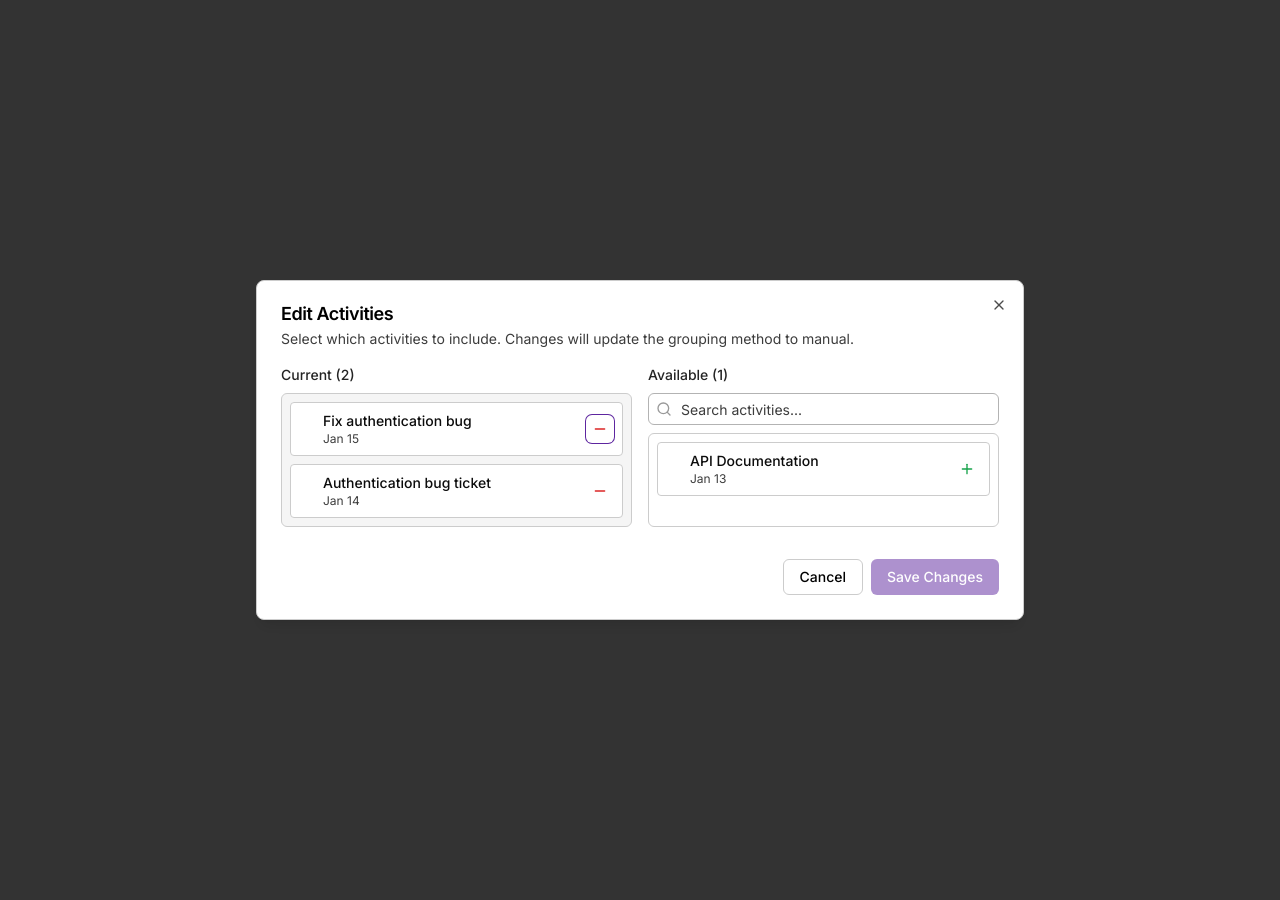
Test: EditActivitiesModal › removes activity from current when remove button clicked
Click the button titled "Remove from current" next to "Fix authentication bug" at (600, 429), box x1=586 y1=415 x2=614 y2=443
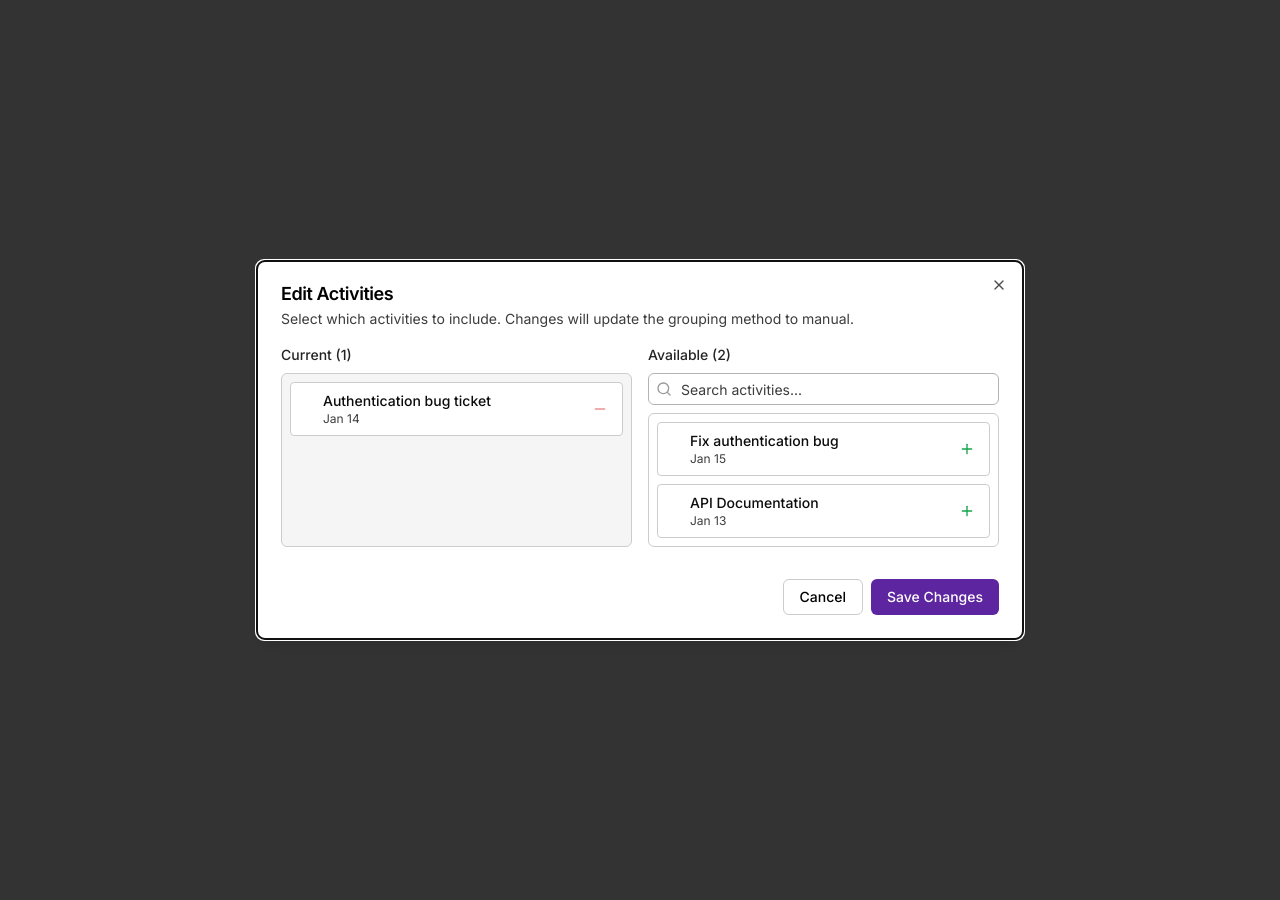
Check: the heading "Current (1)" is shown, box x1=281 y1=346 x2=352 y2=363
